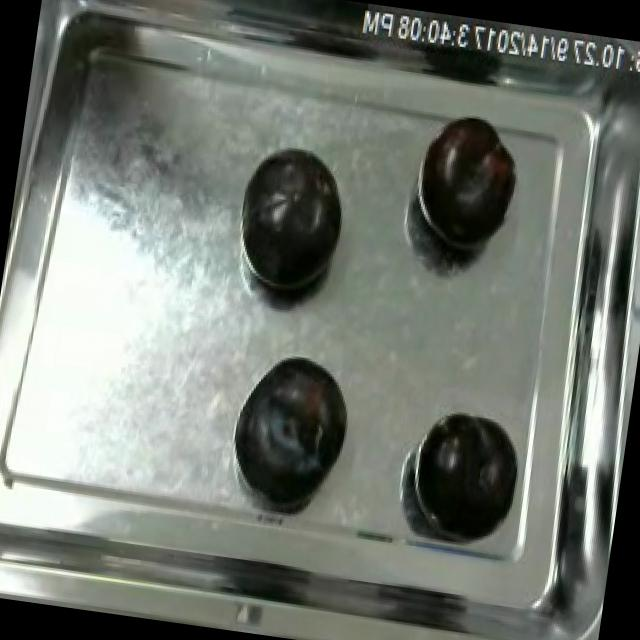Fruit: (224, 136, 356, 304), (228, 345, 360, 513), (407, 106, 528, 262), (409, 402, 526, 547)
